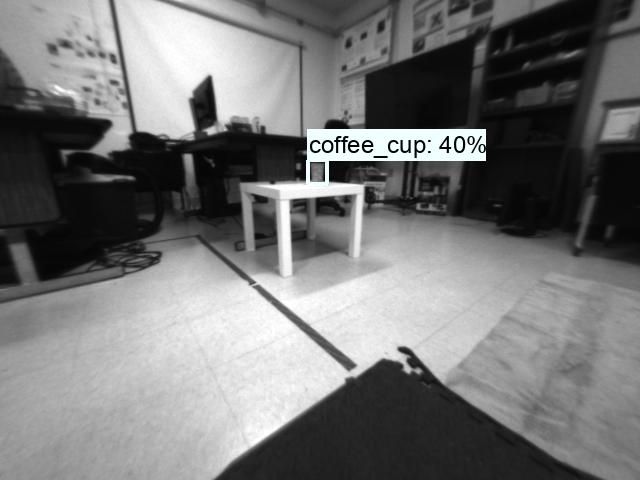coffee_cup: (308, 160, 326, 183)
